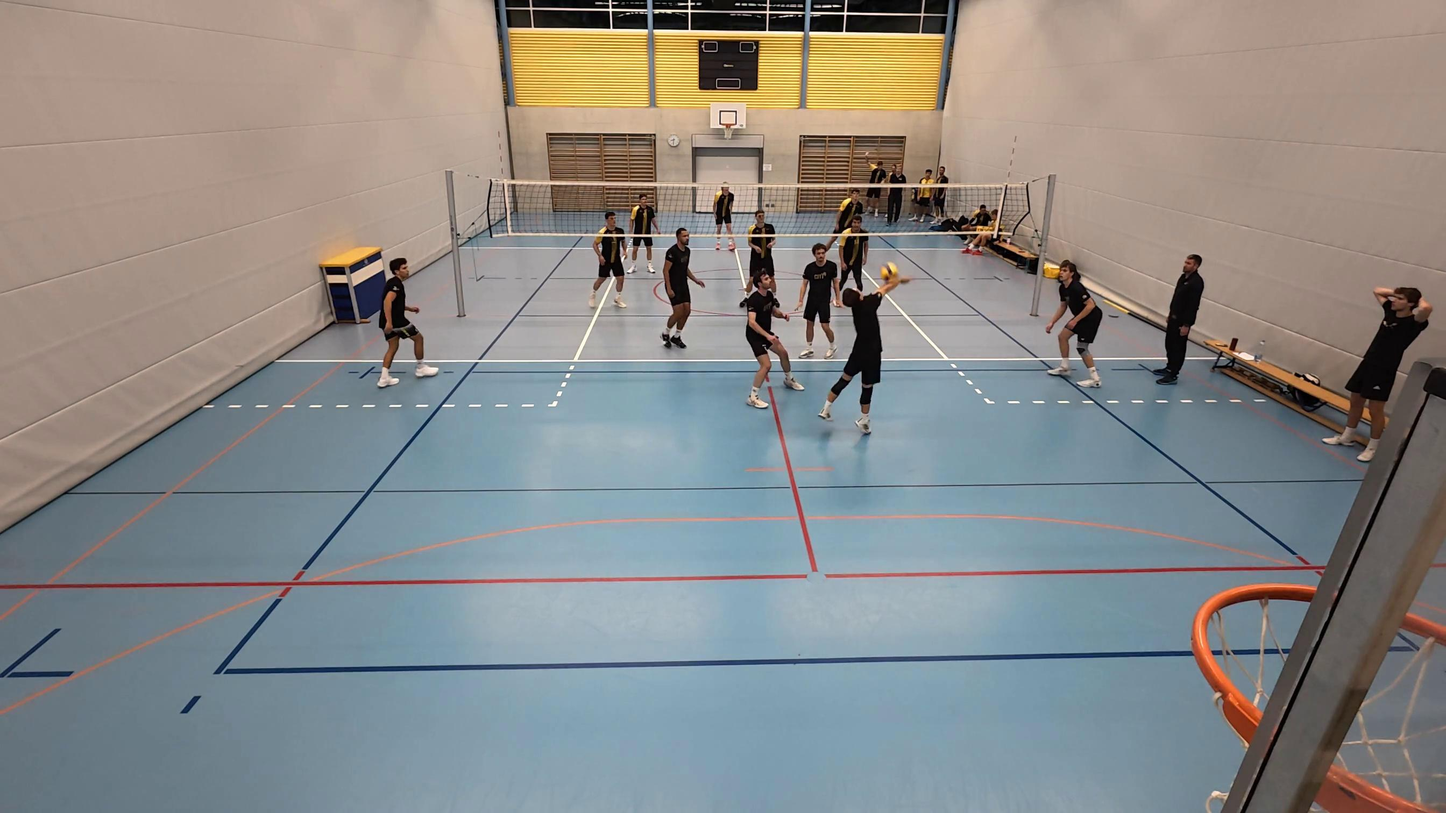Dig: (814, 262, 909, 435)
Player: (375, 258, 438, 388), (743, 273, 802, 409), (1045, 262, 1102, 388), (659, 227, 705, 350), (793, 241, 840, 359), (591, 212, 628, 309), (832, 213, 869, 296), (741, 209, 777, 294), (629, 190, 657, 274), (711, 181, 736, 255), (832, 188, 861, 238)
ball: (878, 262, 898, 281)
